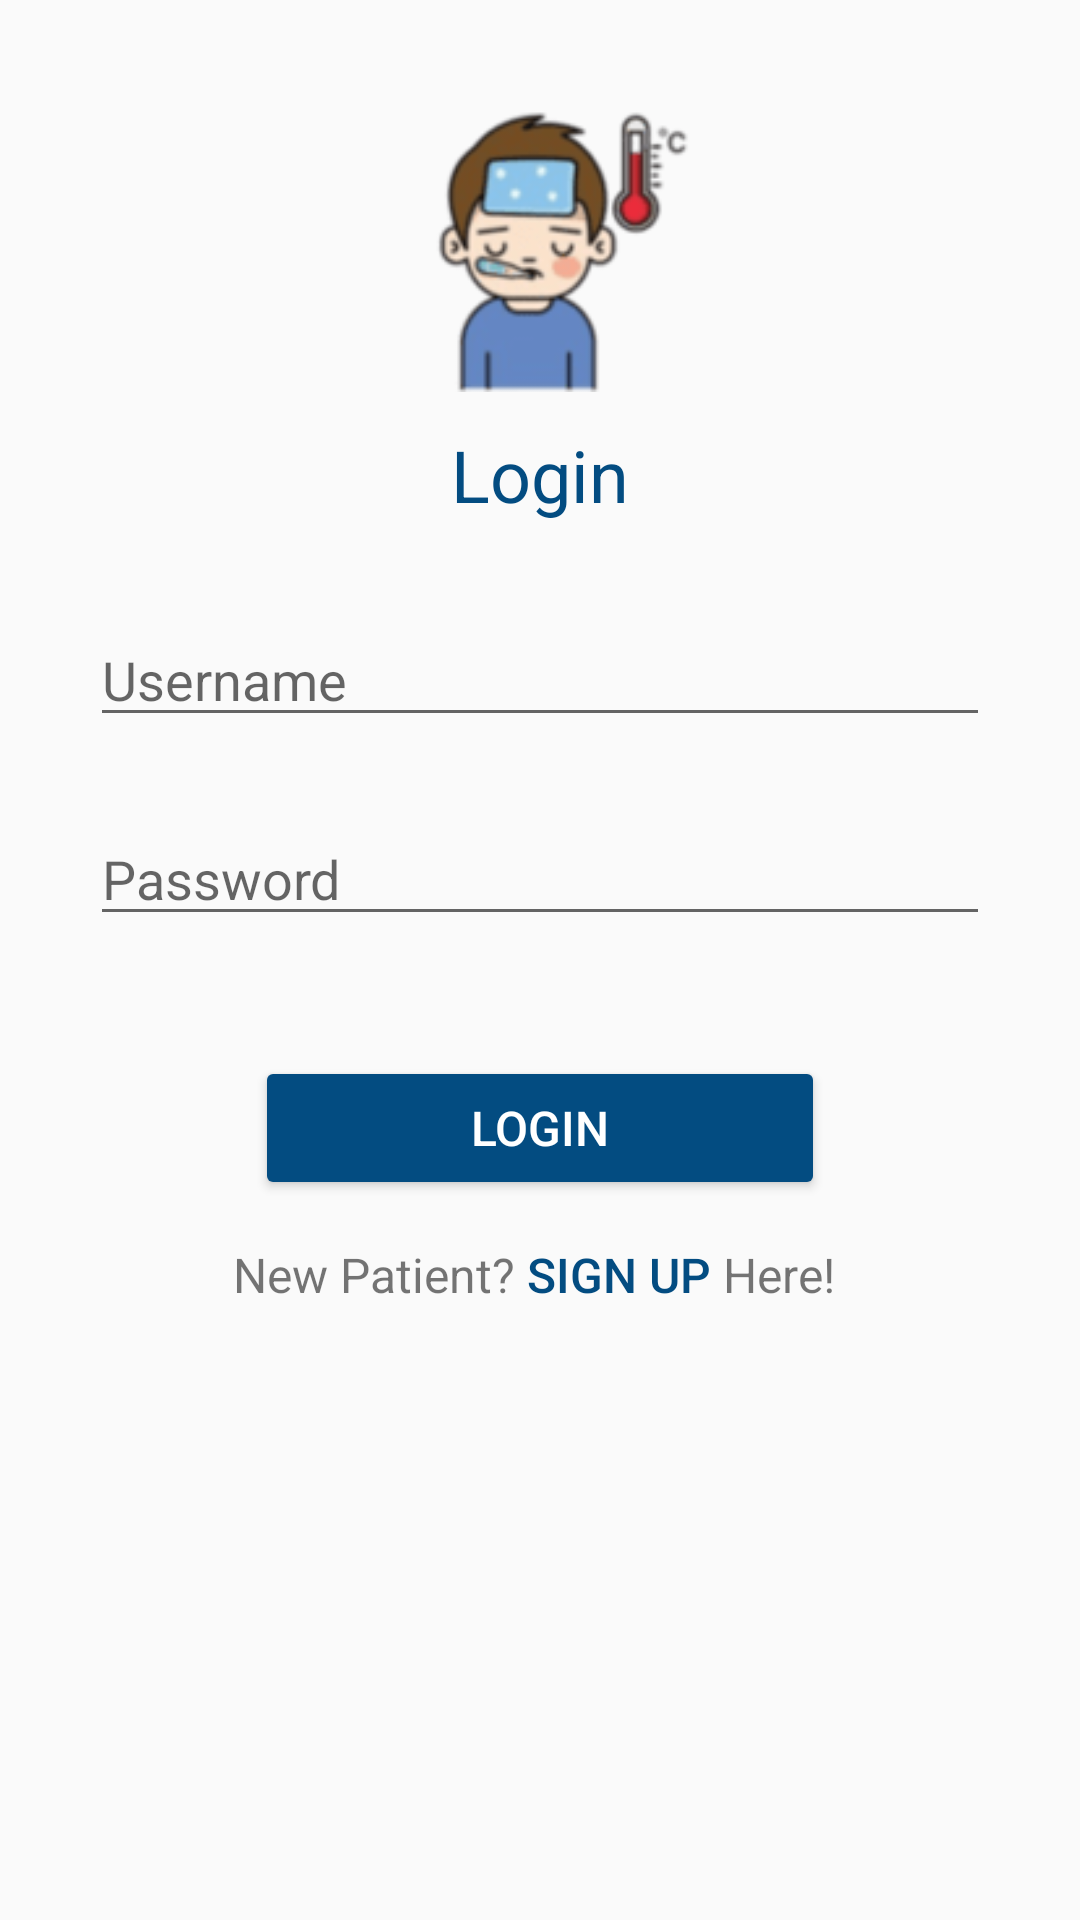

Where to tap for icons on this 1080x1920 app screen, as point (x, y):
patient: point (563, 252)
